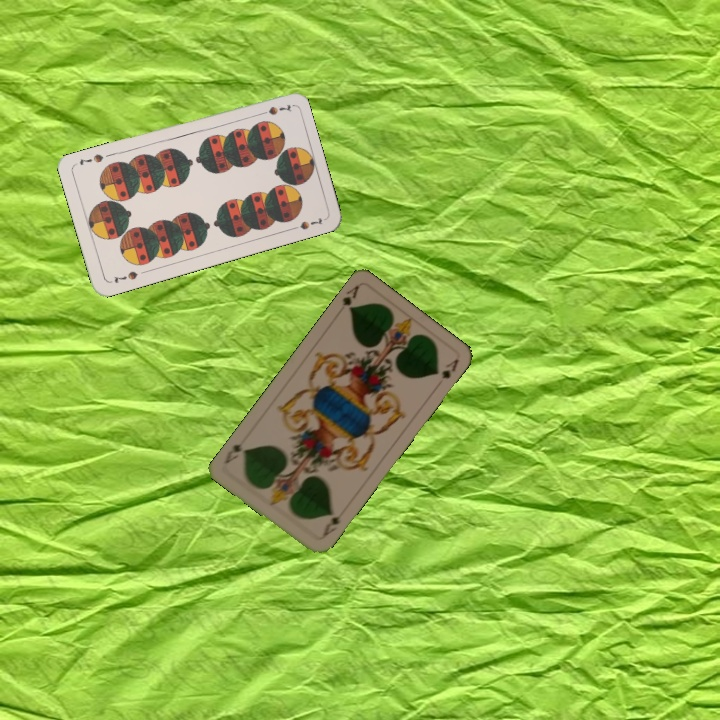GA: (317, 506, 347, 541), (338, 281, 362, 313)
S7: (253, 100, 293, 119), (110, 267, 140, 286)
